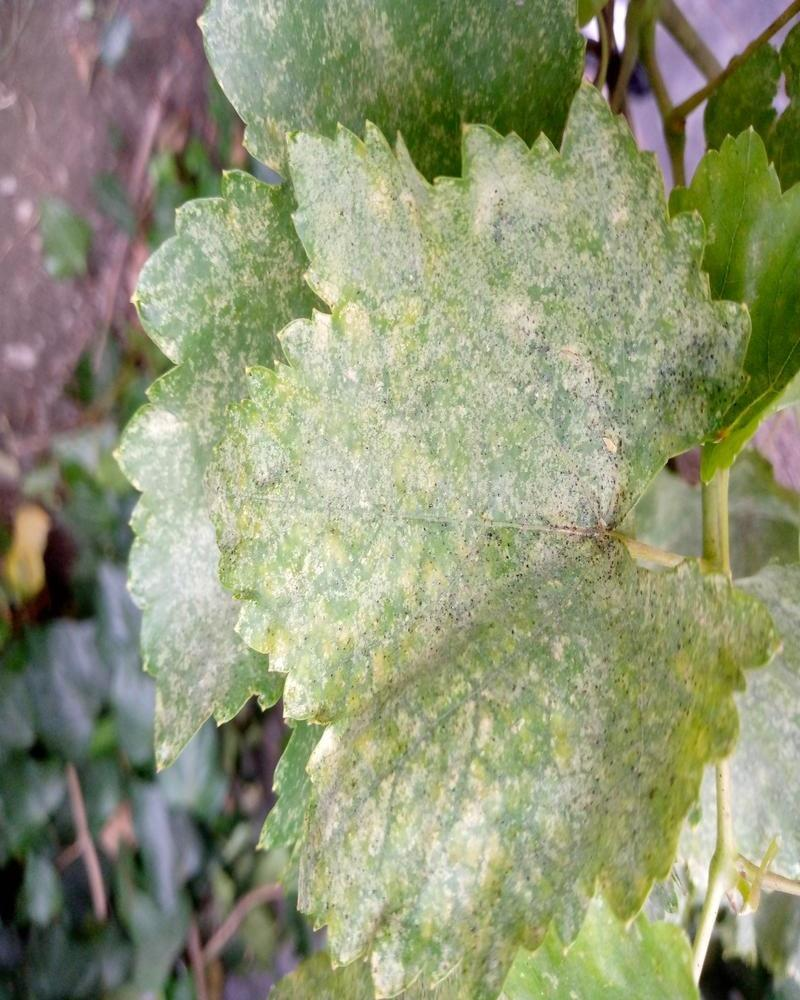Powdery-Mildew: (311, 680, 593, 999), (266, 310, 672, 478), (229, 490, 473, 716), (111, 384, 220, 756), (267, 136, 454, 345), (464, 138, 646, 300), (141, 202, 263, 359), (581, 450, 644, 513), (319, 725, 382, 788)
